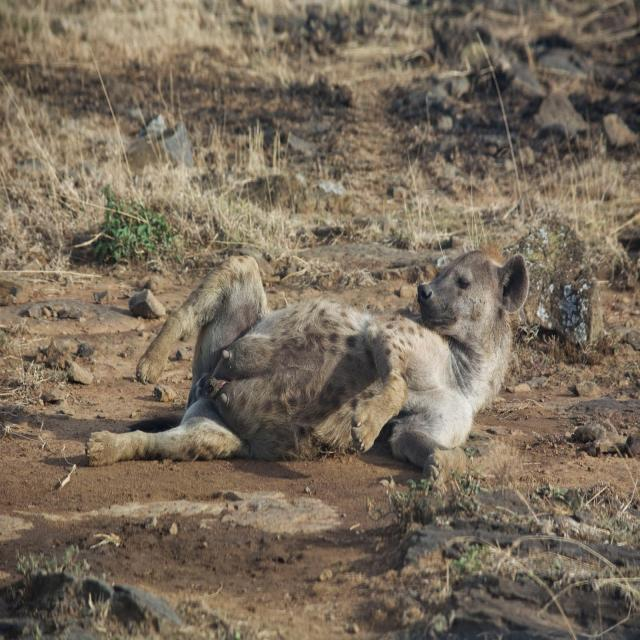Hyena: (78, 248, 536, 485)
